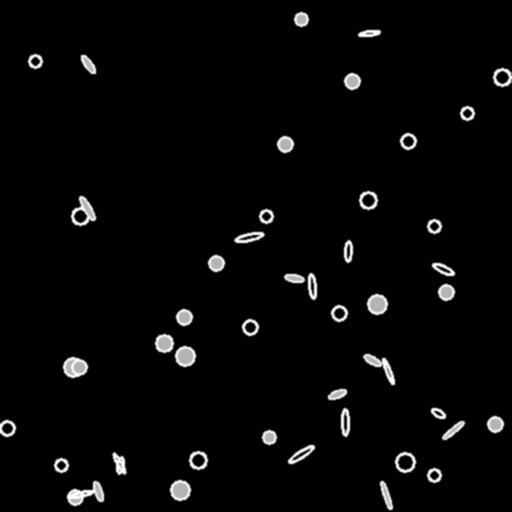pseudomonas: (287, 444, 315, 464), (441, 420, 465, 440), (78, 195, 96, 221), (379, 480, 393, 510), (235, 230, 263, 244), (381, 358, 395, 384), (79, 54, 97, 74), (111, 452, 127, 474), (432, 261, 454, 277), (91, 480, 105, 502), (362, 353, 382, 367), (307, 273, 317, 299), (68, 489, 94, 499), (327, 388, 347, 400), (430, 407, 446, 419), (285, 273, 303, 283), (344, 240, 352, 262), (359, 29, 379, 37), (115, 457, 125, 473), (342, 409, 348, 435)
synechocystis: (176, 347, 194, 365), (171, 481, 189, 499), (64, 358, 82, 376), (396, 453, 414, 471), (368, 295, 386, 313), (360, 192, 376, 208), (156, 335, 172, 351), (494, 69, 510, 85), (72, 208, 88, 224), (190, 452, 206, 468), (177, 310, 191, 324), (488, 417, 502, 431), (332, 306, 346, 320), (345, 74, 359, 88), (209, 256, 223, 270), (243, 320, 257, 334), (401, 134, 415, 148), (0, 421, 14, 435), (68, 490, 82, 504), (439, 285, 453, 299), (278, 137, 292, 151), (72, 360, 86, 374), (55, 459, 67, 471), (260, 210, 272, 222), (461, 107, 473, 119), (295, 13, 307, 25), (428, 220, 440, 232), (263, 431, 275, 443), (29, 55, 41, 67), (428, 469, 440, 481)
